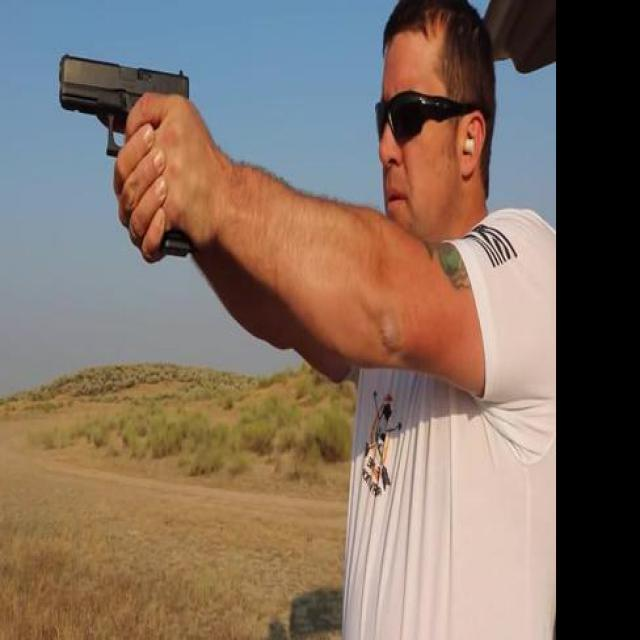Gun: (58, 51, 194, 250)
